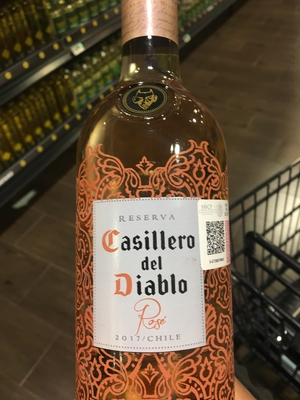casillero del diablo rose: (60, 3, 256, 388)
